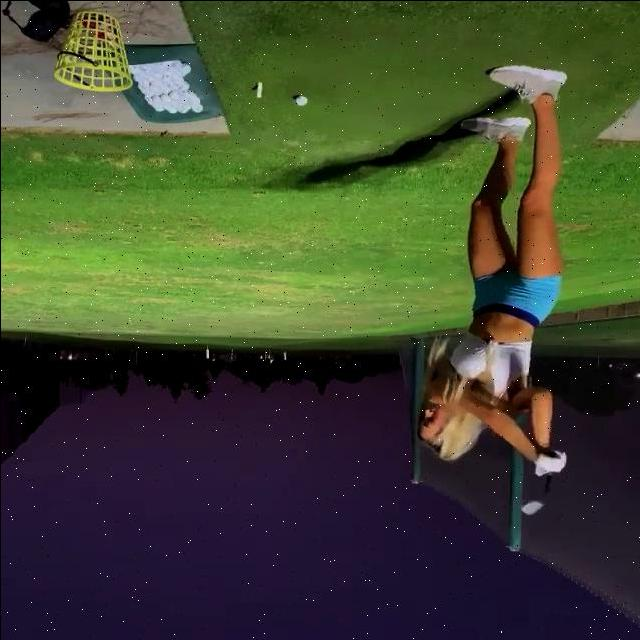golf ball: (295, 94, 307, 105), (181, 61, 190, 73), (190, 104, 202, 112), (168, 90, 178, 98), (149, 94, 159, 102), (177, 107, 188, 113), (160, 92, 168, 100), (167, 107, 176, 113), (154, 107, 164, 111)
golf club-handle: (520, 450, 559, 514)
golf club-head: (519, 498, 543, 514)
